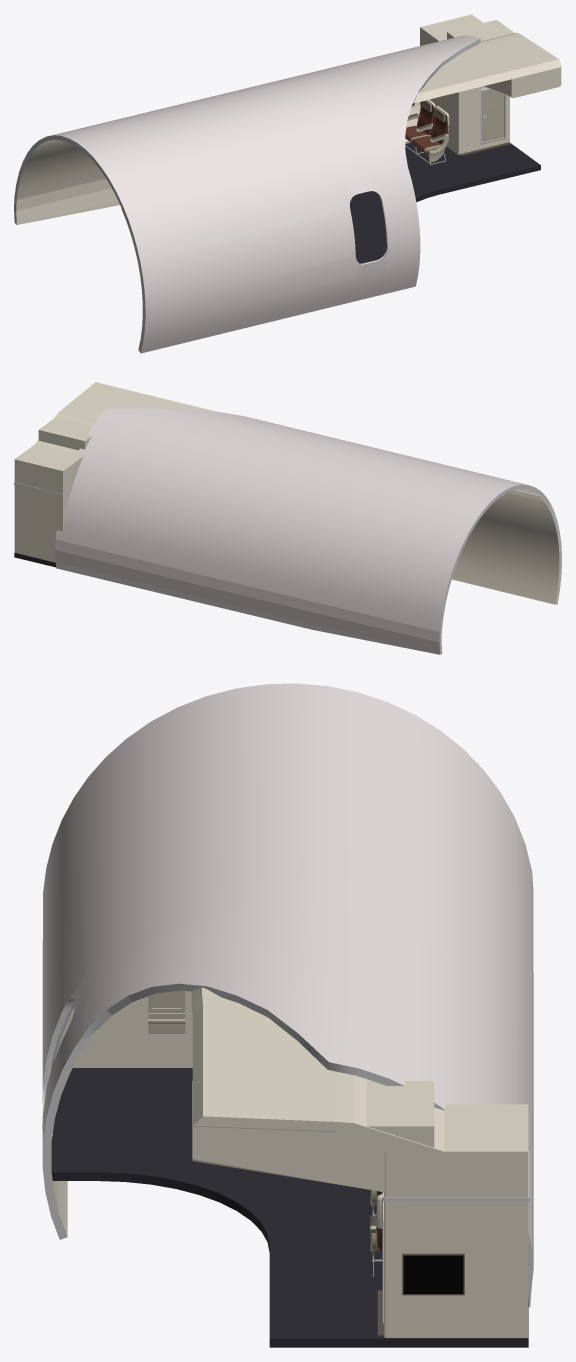
File: air_frontsection.fbx
The picture shows the model from 3 angles, top to bottom: view 1: azimuth 30°, elevation 25°; view 2: azimuth 150°, elevation 25°; view 3: azimuth 270°, elevation 25°; orthographic projection. The views are drawn at different scales.
Visible parts, largest first — view 1: plane_shell, floor, overhead, bathroom, pCube76; view 2: plane_shell, bathroom, overhead, pCube76; view 3: plane_shell, floor, bathroom, overhead, pCube76, wall_pilot, pCube75.
Boxes of the visible parts, x1,y1,x2,y2 form: plane_shell: (14, 35, 480, 353); floor: (349, 141, 540, 263); overhead: (421, 33, 561, 99); bathroom: (420, 14, 509, 154); pCube76: (447, 20, 561, 98); plane_shell: (55, 408, 561, 654); bathroom: (14, 444, 83, 562); overhead: (35, 382, 219, 453); pCube76: (38, 417, 91, 450); plane_shell: (42, 683, 533, 1307); floor: (51, 1068, 528, 1347); bathroom: (382, 1104, 529, 1337); overhead: (191, 994, 445, 1152); pCube76: (192, 1081, 434, 1191); wall_pilot: (59, 991, 192, 1067); pCube75: (402, 1253, 464, 1295).
Bounding box in the file's own units: 25.79 × 8.8 × 12.78.
